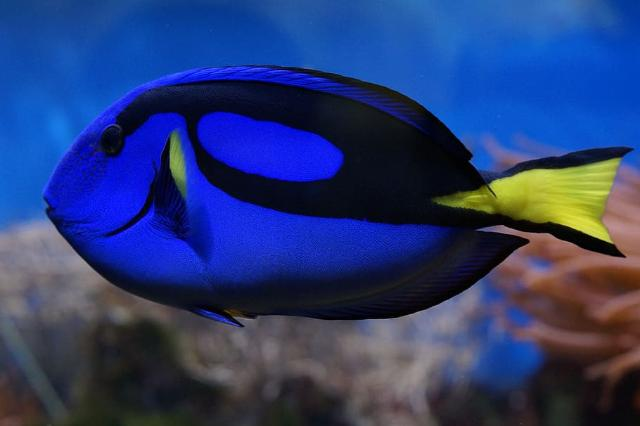Mulut: (28, 165, 82, 264)
Sirip Anal: (280, 228, 534, 339)
Sirip Dada: (128, 110, 215, 256)
Sirip Ekor: (502, 138, 638, 274)
Sirip Perut: (175, 292, 267, 344)
Sirip Punggung: (168, 56, 482, 170)
